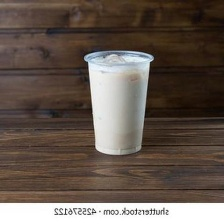glass: (81, 47, 155, 157)
